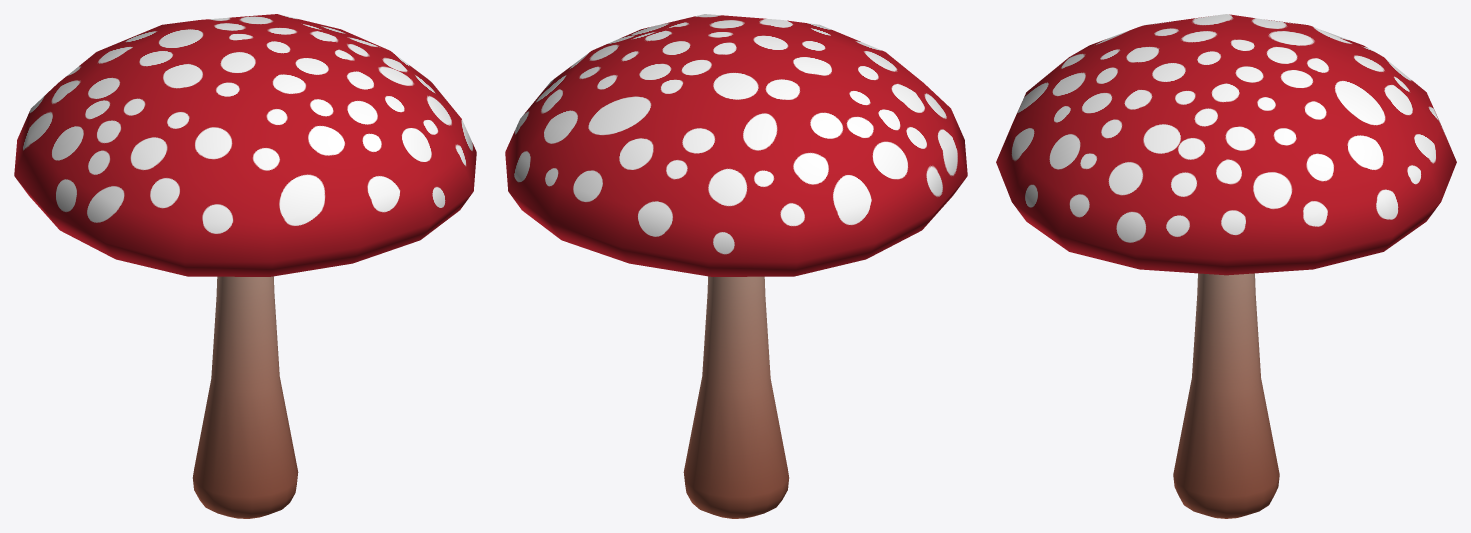
Rendered from Mushrooms_02.fbx.
3 renders of one model, left to right at view 1: azimuth 30°, elevation 25°; view 2: azimuth 150°, elevation 25°; view 3: azimuth 270°, elevation 25°, orthographic.
Parts seen in each view (by area): view 1: mushroom_hat_02, mushroom_feet_02; view 2: mushroom_hat_02, mushroom_feet_02; view 3: mushroom_hat_02, mushroom_feet_02.
Boxes of the visible parts, left/top/right/bottom form: mushroom_hat_02: left=14, top=14, right=476, bottom=276; mushroom_feet_02: left=192, top=276, right=298, bottom=518; mushroom_hat_02: left=505, top=14, right=967, bottom=276; mushroom_feet_02: left=683, top=276, right=789, bottom=518; mushroom_hat_02: left=996, top=14, right=1456, bottom=275; mushroom_feet_02: left=1173, top=273, right=1279, bottom=518.
Bounding box in the file's own units: 1.19 × 1.33 × 1.19.
